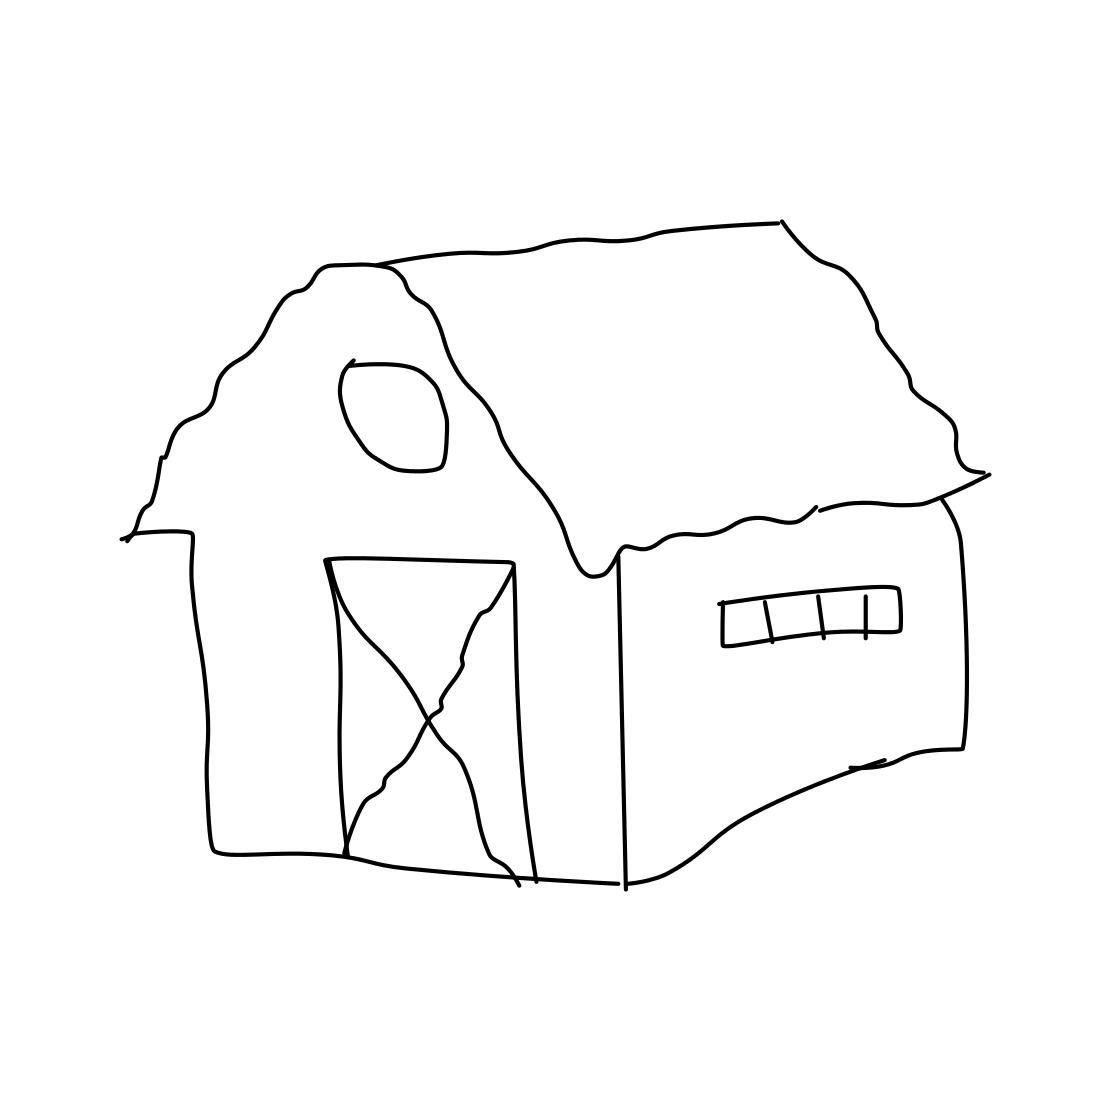House: (84, 198, 1015, 896)
